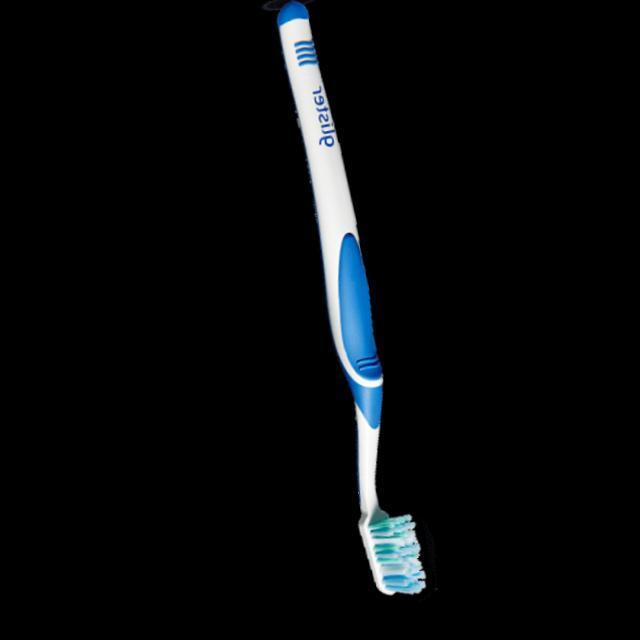toothbrush: (240, 1, 448, 612)
